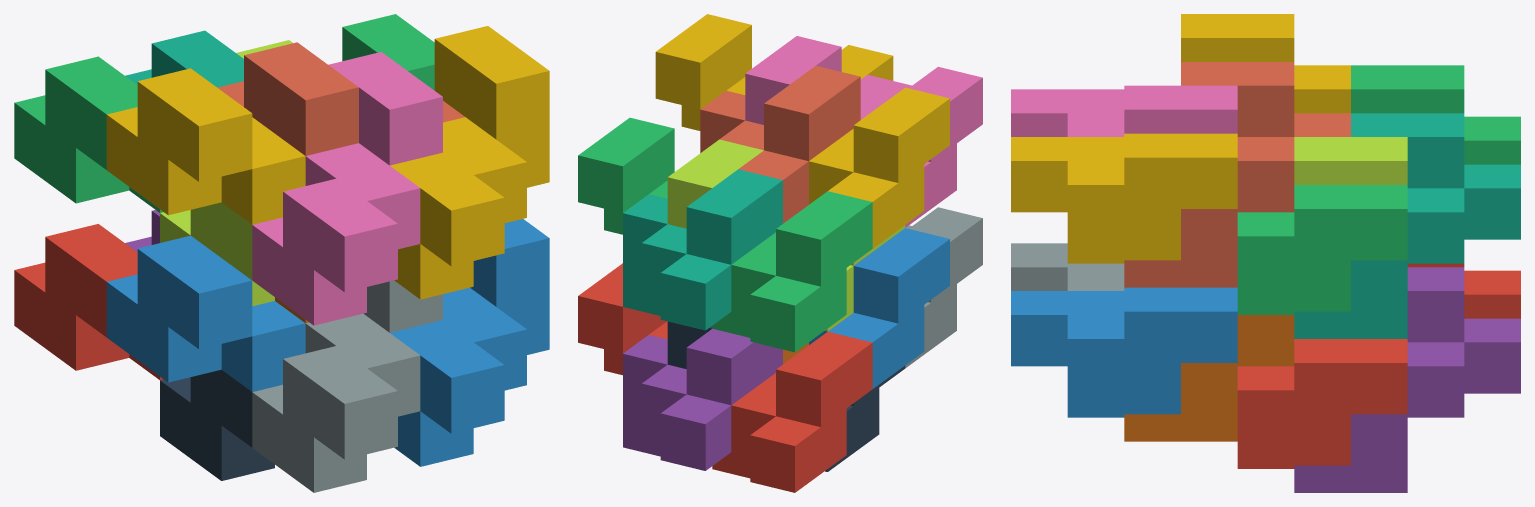
File: tiling.obj
3 views of the same model, side by side, from view 1: azimuth 30°, elevation 25°; view 2: azimuth 150°, elevation 25°; view 3: azimuth 270°, elevation 25° (orthographic). The views are drawn at different scales.
Visible parts, largest first — view 1: copy_2_domain_4, copy_2_domain_8, copy_2_domain_2, copy_2_domain_6, copy_1_domain_4, copy_1_domain_2, copy_1_domain_3, copy_1_domain_1, copy_1_domain_8, copy_2_domain_1, copy_2_domain_3, copy_2_domain_7 (+1 smaller); view 2: copy_1_domain_7, copy_1_domain_3, copy_1_domain_1, copy_1_domain_5, copy_1_domain_4, copy_1_domain_8, copy_1_domain_2, copy_2_domain_4, copy_2_domain_8, copy_2_domain_7, copy_2_domain_5, copy_2_domain_2 (+2 smaller); view 3: copy_2_domain_6, copy_2_domain_8, copy_1_domain_7, copy_1_domain_5, copy_1_domain_8, copy_2_domain_5, copy_2_domain_7, copy_2_domain_4, copy_1_domain_6, copy_1_domain_3, copy_1_domain_4, copy_2_domain_3 (+2 smaller).
Boxes of the visible parts, x1,y1,x2,y2 form: copy_2_domain_4: (252,52,442,325); copy_2_domain_8: (390,26,549,299); copy_2_domain_2: (252,280,442,492); copy_2_domain_6: (390,219,549,466); copy_1_domain_4: (106,68,305,224); copy_1_domain_2: (106,235,305,391); copy_1_domain_3: (14,56,163,212); copy_1_domain_1: (14,224,163,380); copy_1_domain_8: (217,42,464,155); copy_2_domain_1: (160,369,274,480); copy_2_domain_3: (160,40,292,306); copy_2_domain_7: (342,14,434,90); copy_1_domain_7: (623,169,782,330); copy_1_domain_3: (712,191,872,352); copy_1_domain_1: (712,331,872,492); copy_1_domain_5: (623,328,782,470); copy_1_domain_4: (809,87,949,248); copy_1_domain_8: (700,66,860,223); copy_1_domain_2: (809,228,949,388); copy_2_domain_4: (745,36,982,227); copy_2_domain_8: (655,14,893,130); copy_2_domain_7: (578,117,674,234); copy_2_domain_5: (578,263,667,375); copy_2_domain_2: (905,207,982,368); copy_2_domain_6: (1011,287,1237,417); copy_2_domain_8: (1011,133,1237,263); copy_1_domain_7: (1294,113,1520,338); copy_1_domain_5: (1294,267,1520,492); copy_1_domain_8: (1124,62,1350,287); copy_2_domain_5: (1237,339,1407,468); copy_2_domain_7: (1237,185,1407,314); copy_2_domain_4: (1011,85,1237,136); copy_1_domain_6: (1124,315,1294,441); copy_1_domain_3: (1351,65,1520,164); copy_1_domain_4: (1181,14,1350,113); copy_2_domain_3: (1294,137,1407,184).
Size of the model in its own units: 6 by 7 by 9.
